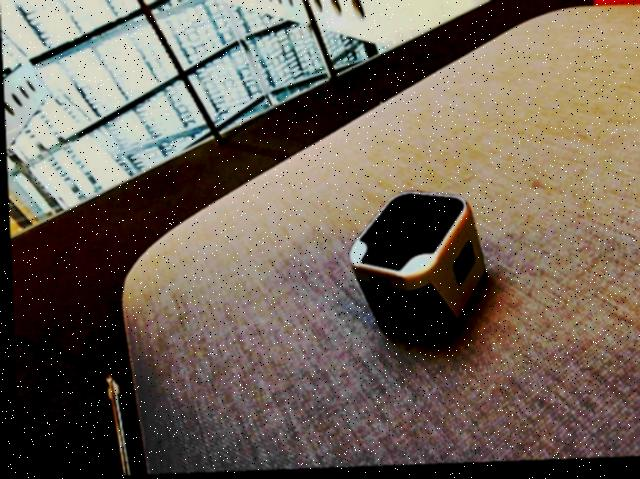adapter: (344, 191, 486, 352)
